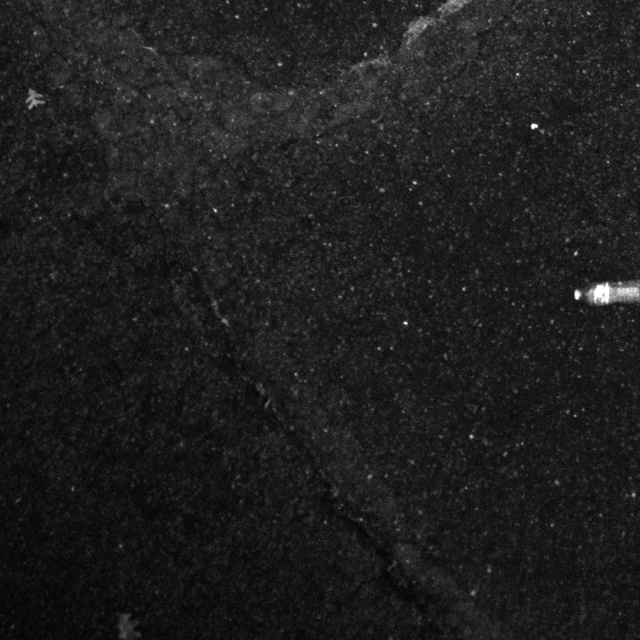bottle: (577, 273, 640, 310)
